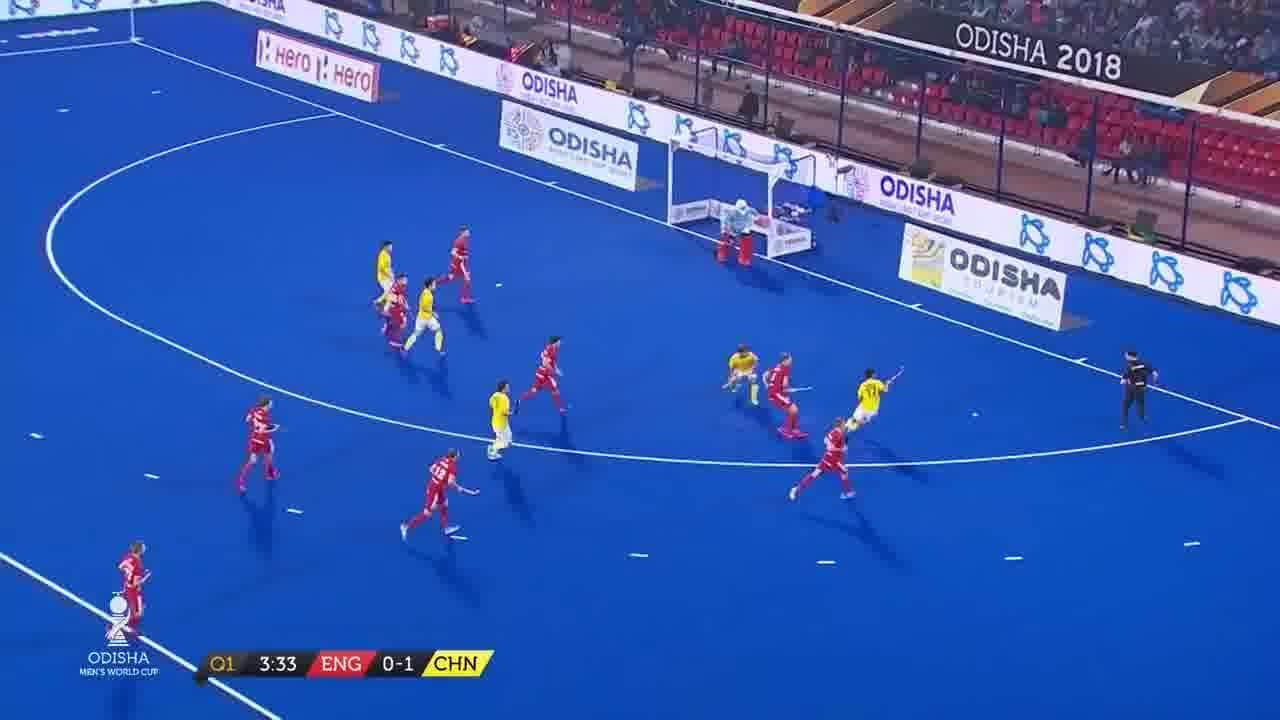ball: (964, 404, 984, 421)
